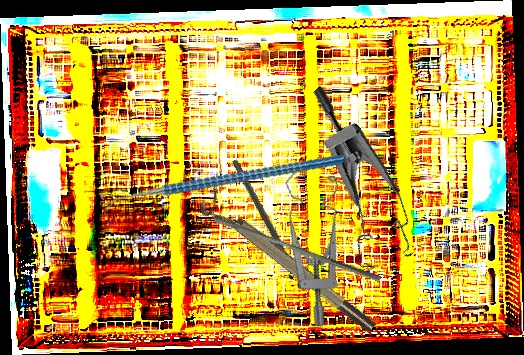Chopper: (103, 119, 345, 252)
Fixation Ring: (195, 187, 380, 343), (225, 155, 308, 282)
Pusher: (211, 214, 384, 283)
Speculum: (252, 84, 447, 286), (242, 161, 375, 329)
